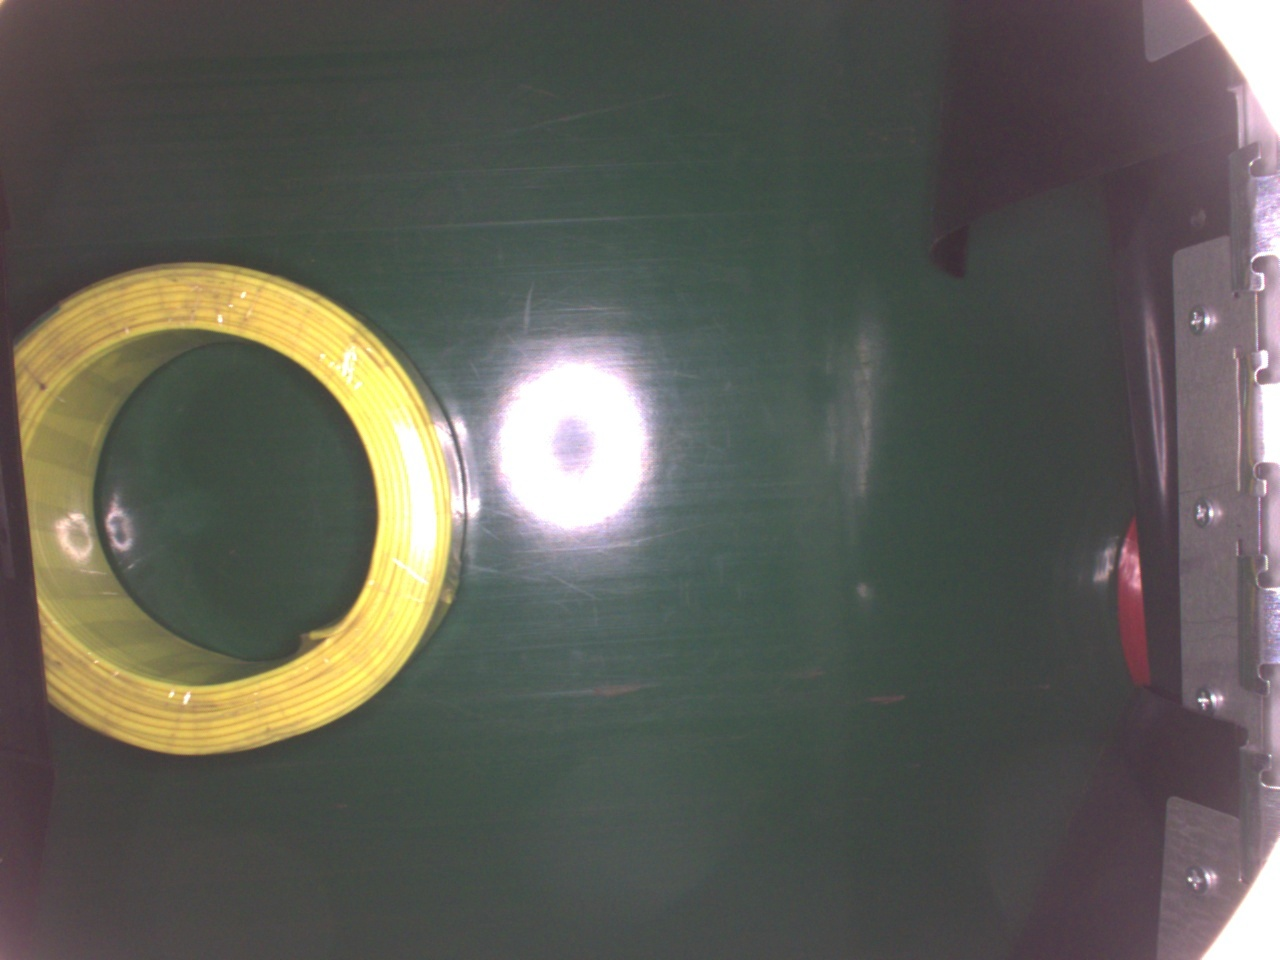yellow: (13, 259, 472, 754)
